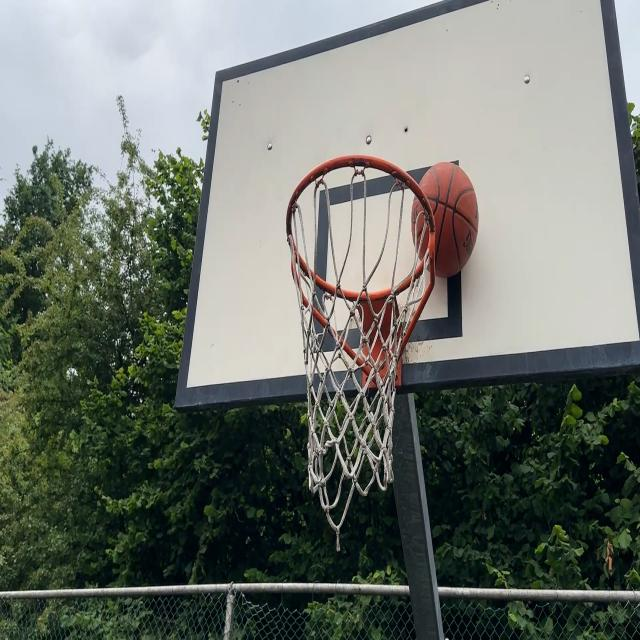rebound_hit: (412, 162, 478, 279)
